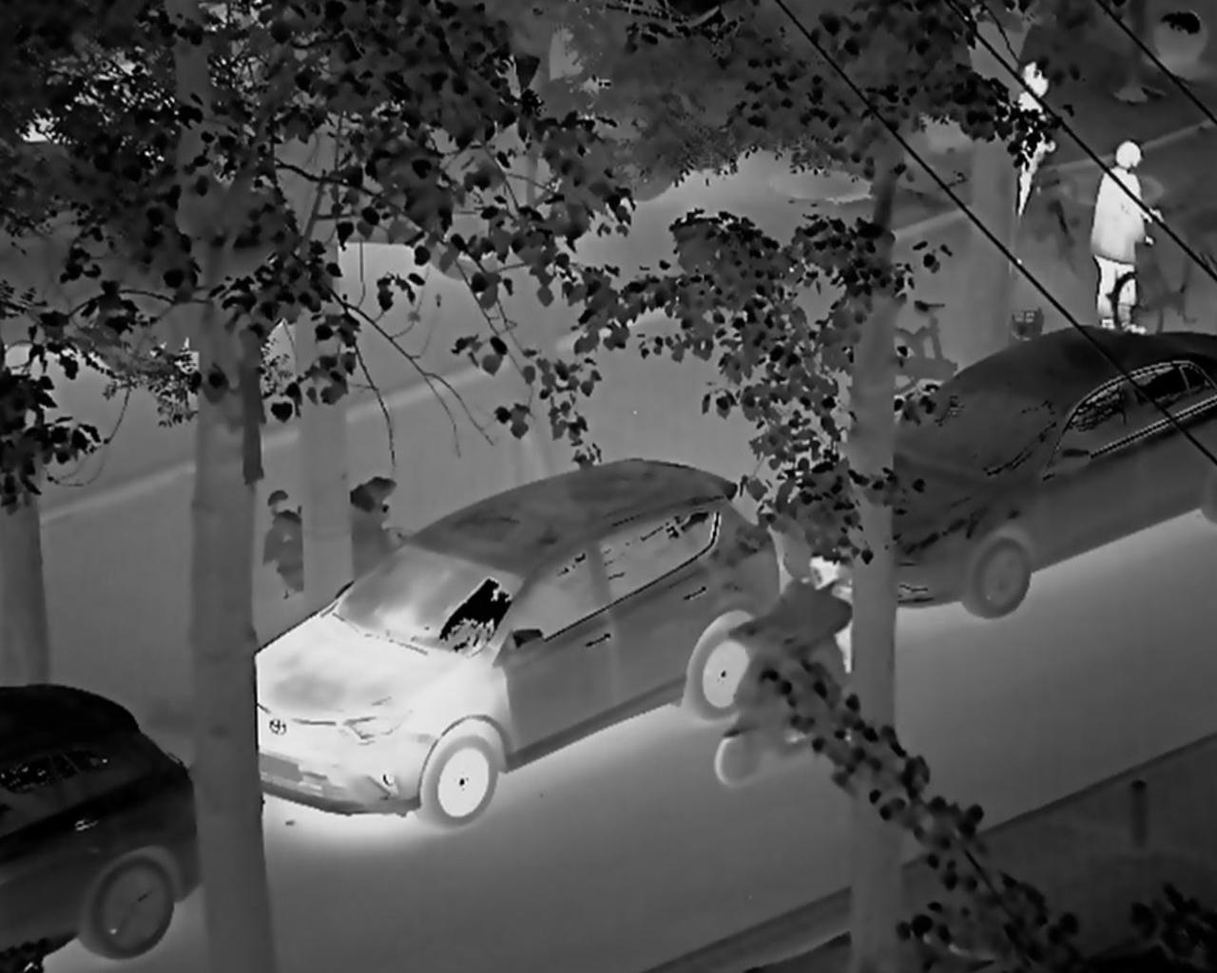person: (714, 547, 847, 773), (1091, 139, 1157, 332)
